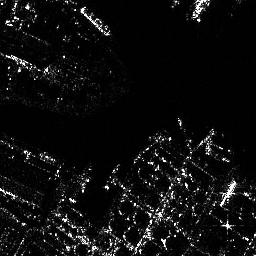ship: (80, 5, 111, 37)
